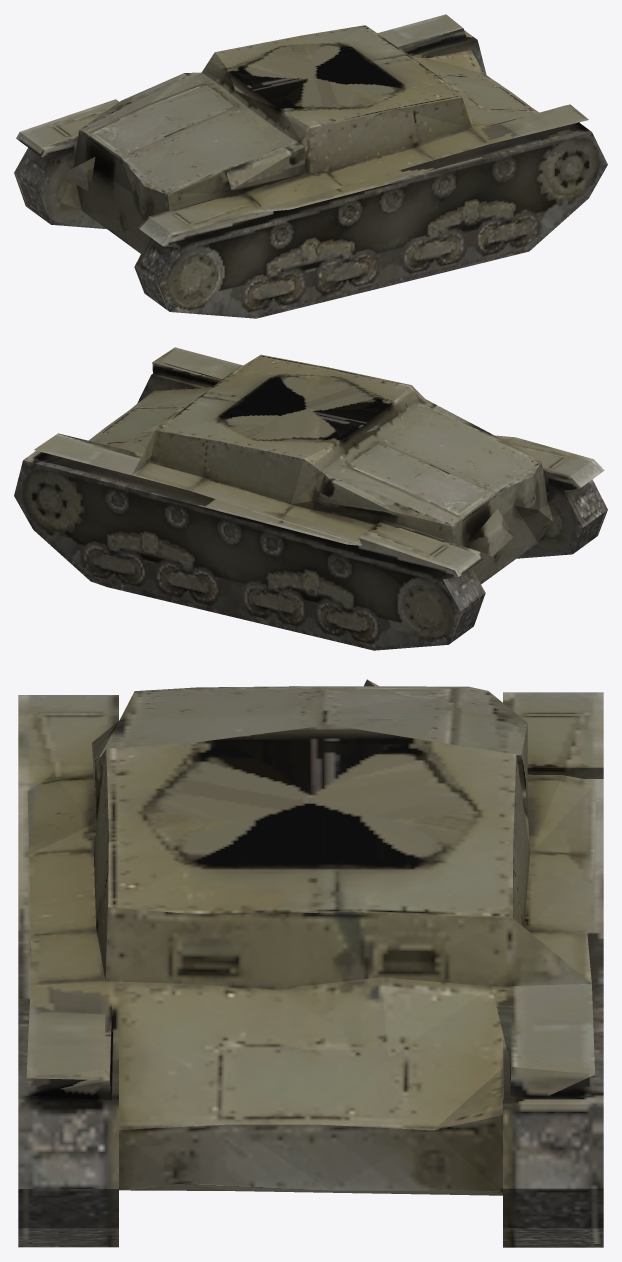
The model's file is hull.obj.
3 renders of one model, top to bottom at view 1: azimuth 30°, elevation 25°; view 2: azimuth 150°, elevation 25°; view 3: azimuth 270°, elevation 25°, orthographic. The views are drawn at different scales.
Bounding box in the file's own units: 1.01 × 0.3375 × 0.57.
Materials: 1 (1 with a texture image).
